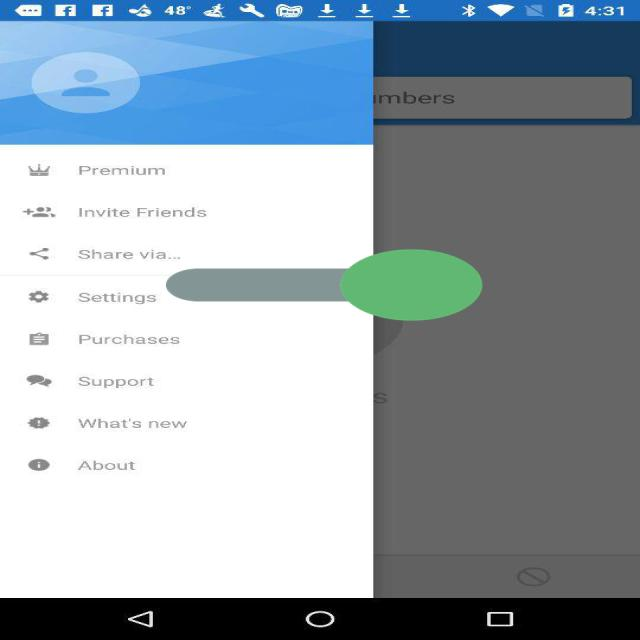social proof: (166, 205, 482, 365)
